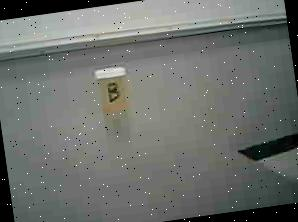Bottle B: (86, 58, 142, 122)
